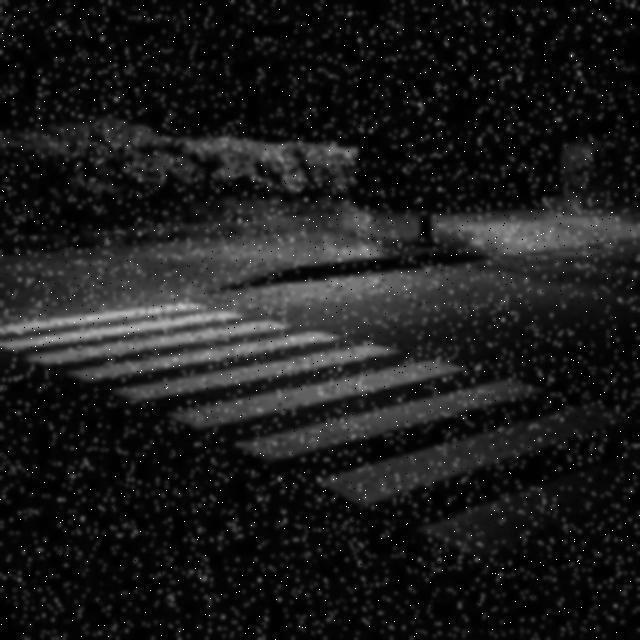crosswalk: (0, 299, 624, 563)
